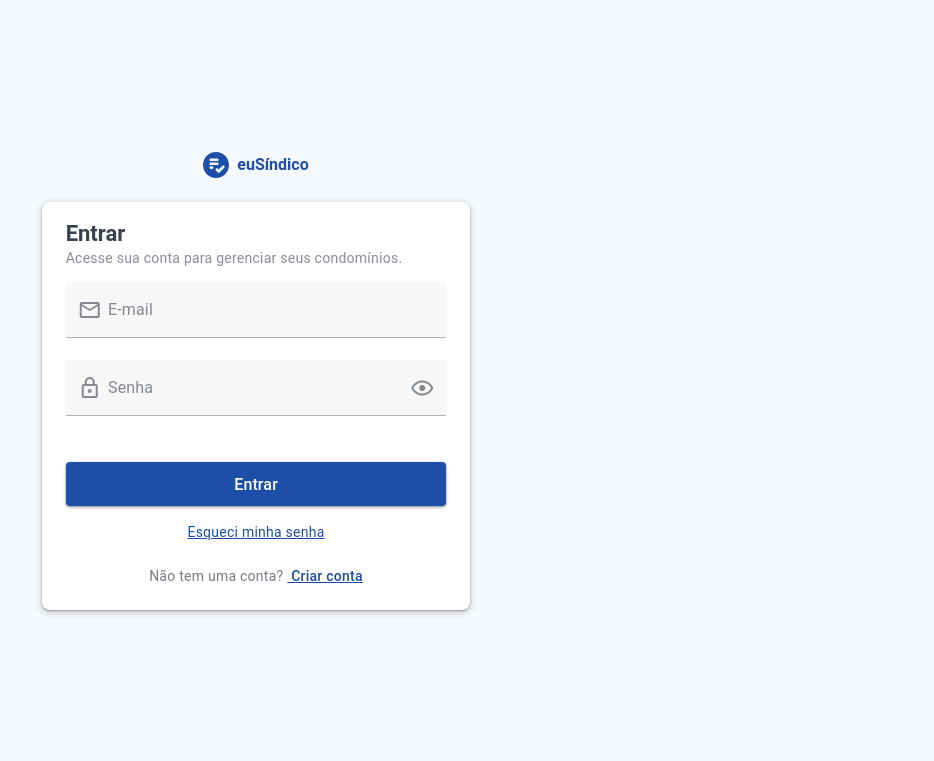
Test case: Compromissos (RF12-RF17, RF34) › exibe o estado vazio
In the element with test id "email": (257, 321) left=66, top=282, right=447, bottom=360, type "sindico@exemplo.com"
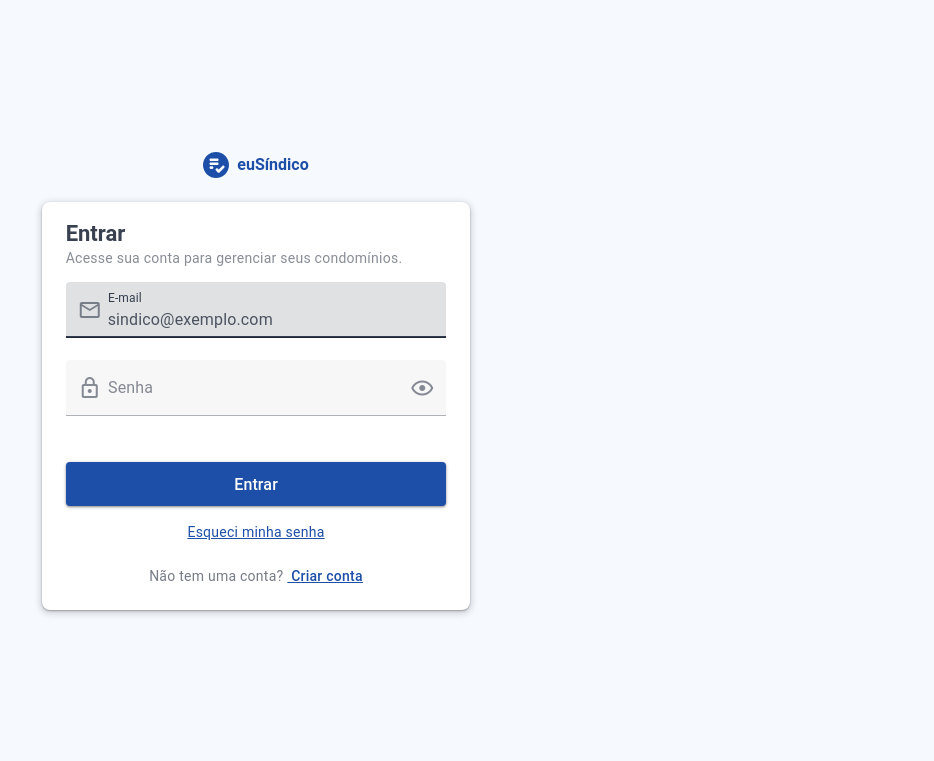
In the element with test id "senha": (257, 399) left=66, top=360, right=447, bottom=438, type "SenhaForte1!"
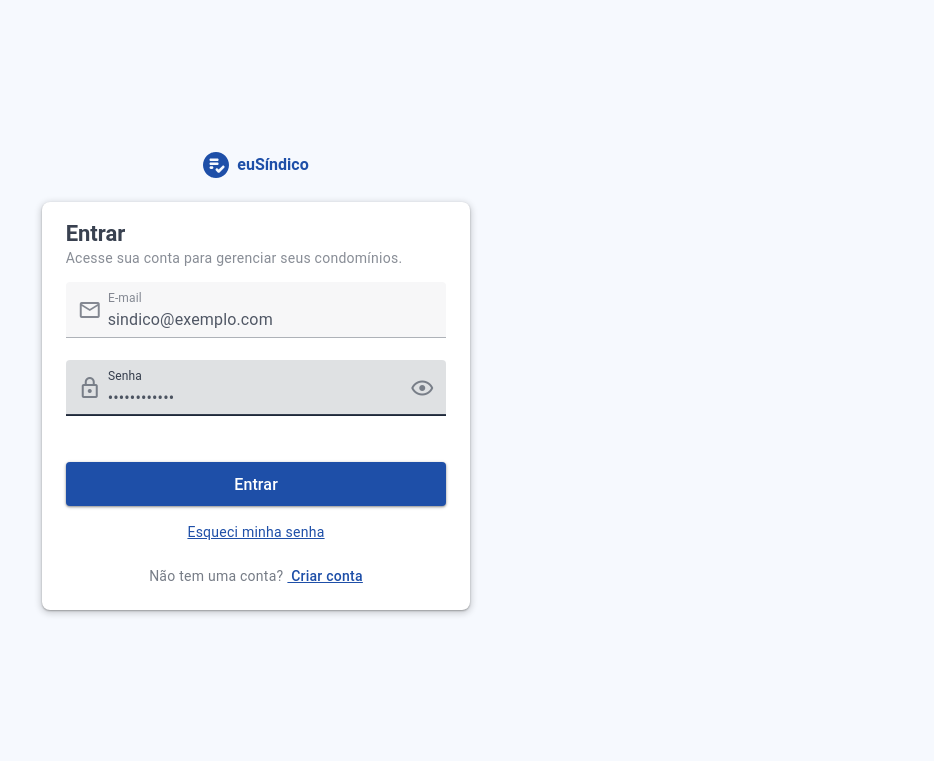
Click the button with test id "btn-entrar": click(257, 484) left=66, top=462, right=447, bottom=506
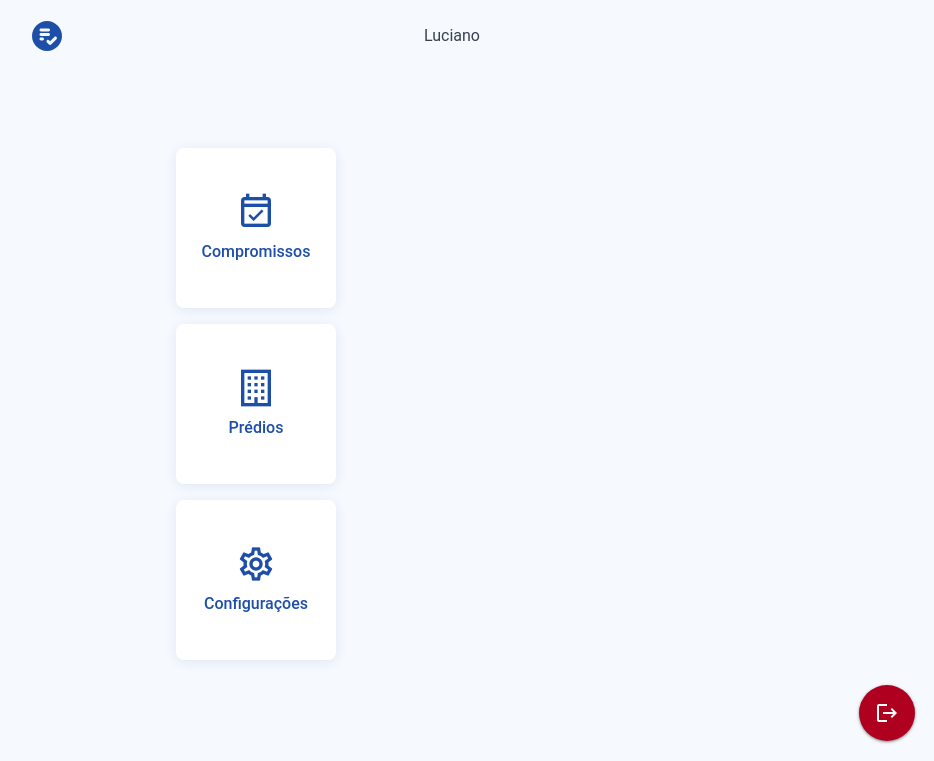
Click the link with test id "card-compromissos": click(256, 228) left=176, top=148, right=336, bottom=308
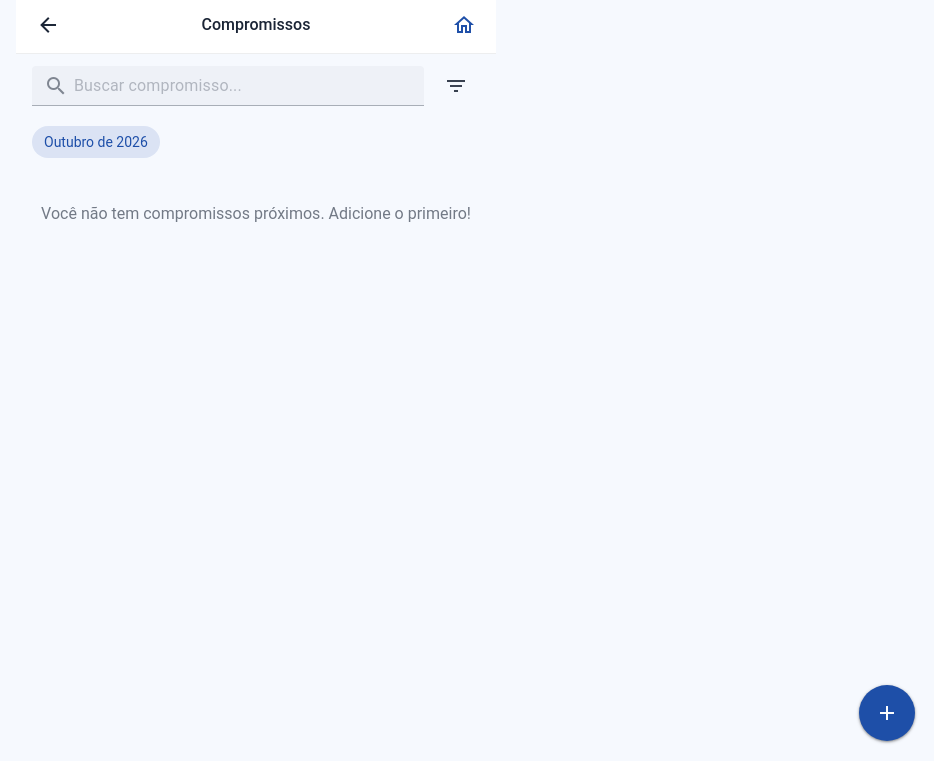
Expected: the text with test id "compromissos-vazio" shows "Você não tem compromissos próximos", left=41, top=204, right=471, bottom=223
